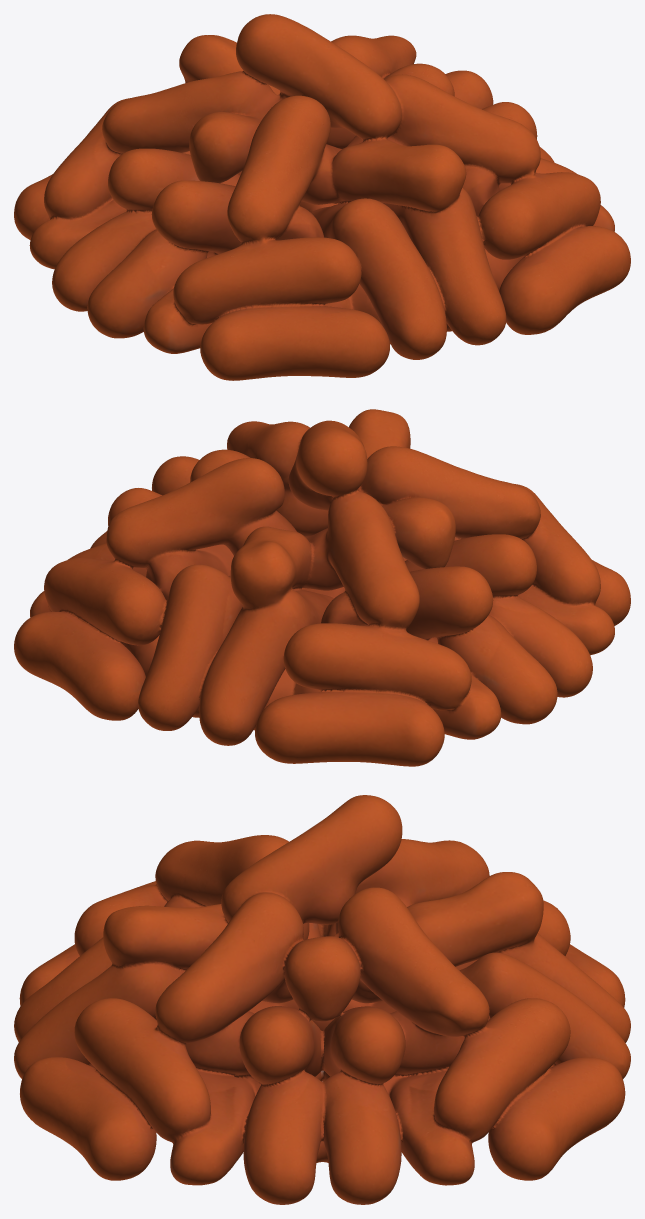
The model's file is sausage.fbx.
3 renders of one model, top to bottom at view 1: azimuth 30°, elevation 25°; view 2: azimuth 150°, elevation 25°; view 3: azimuth 270°, elevation 25°, orthographic. The views are drawn at different scales.
Visible parts, largest first — view 1: Mesh_0; view 2: Mesh_0; view 3: Mesh_0.
Part boxes in pixels (<box>): Mesh_0: <box>14,14,630,380</box>; Mesh_0: <box>14,409,630,766</box>; Mesh_0: <box>14,795,630,1204</box>.
Bounding box in the file's own units: 190 × 88.59 × 186.
1 material, 1 textured.
